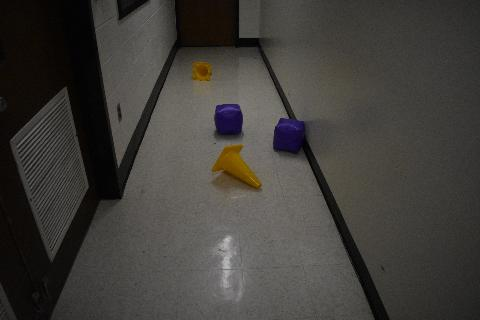cone: (212, 145, 262, 189), (192, 62, 212, 82)
cube: (273, 118, 305, 154), (214, 105, 242, 135)
